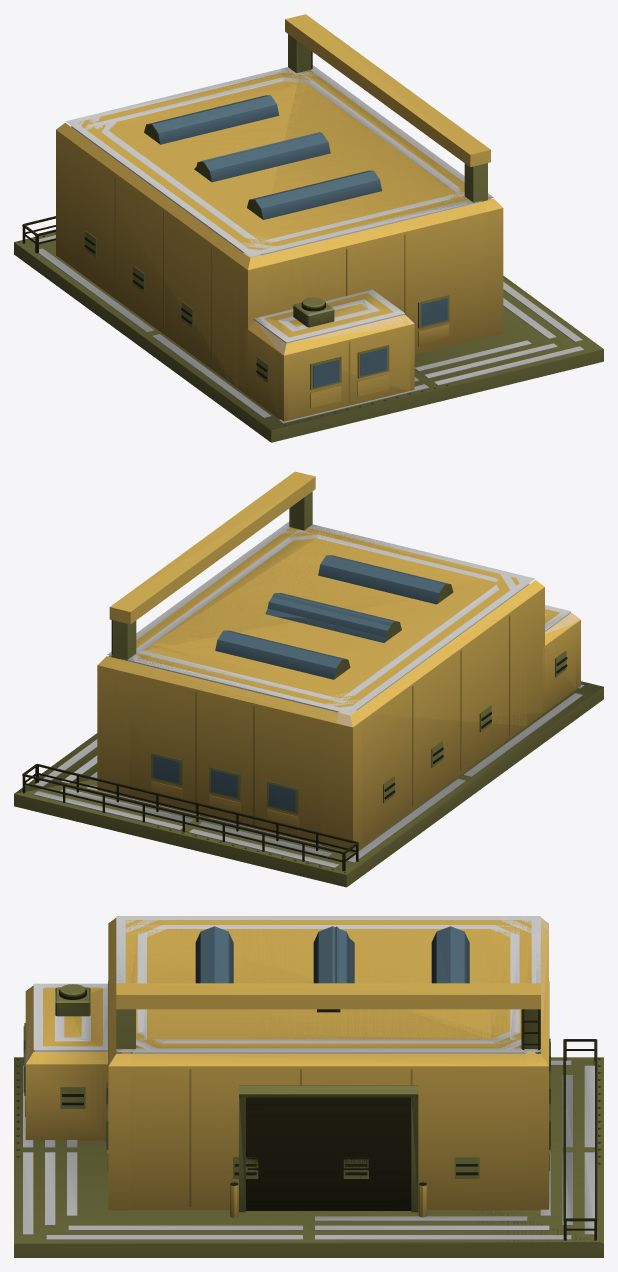
The model's file is meridian_vehicle_factory.glb.
3 renders of one model, top to bottom at view 1: azimuth 30°, elevation 25°; view 2: azimuth 150°, elevation 25°; view 3: azimuth 270°, elevation 25°, orthographic. The views are drawn at different scales.
Parts seen in each view (by area): view 1: body (×3); view 2: body (×3); view 3: body (×3).
Part boxes in pixels (<box>): body (×3): <box>14,14,603,442</box>; body (×3): <box>14,471,603,887</box>; body (×3): <box>14,916,603,1257</box>.
Bounding box in the file's own units: 11.2 × 6.3 × 15.
